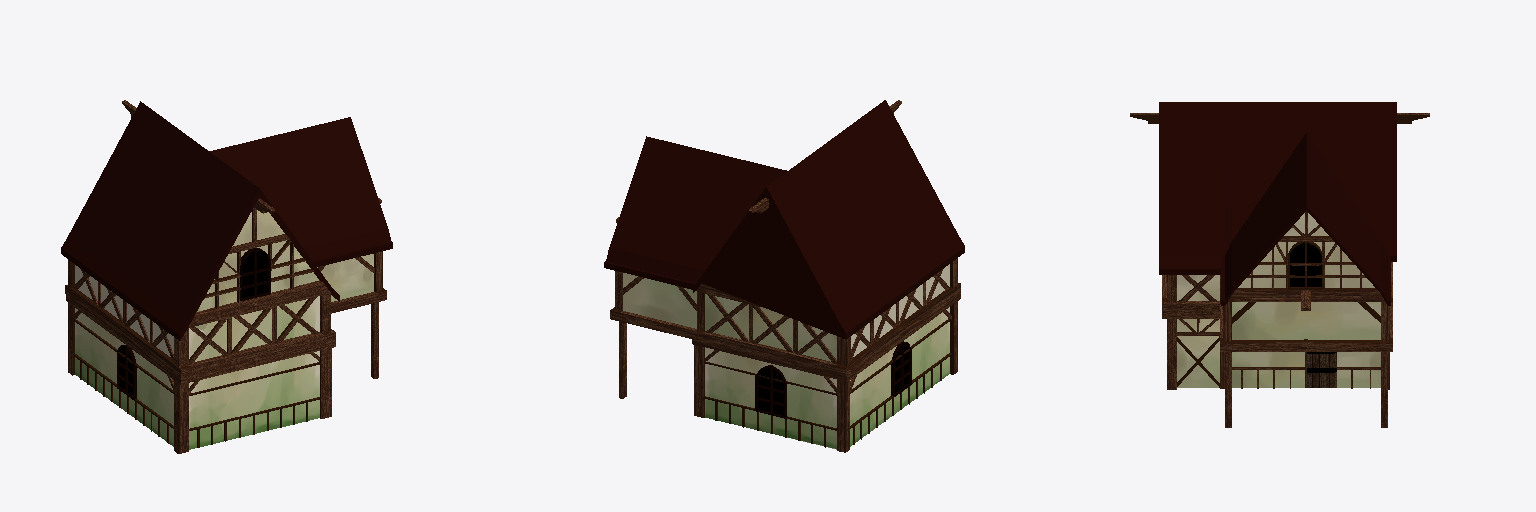
The picture shows the model from 3 angles: view 1: azimuth 30°, elevation 25°; view 2: azimuth 150°, elevation 25°; view 3: azimuth 270°, elevation 25°; orthographic projection.
Visible parts, largest first — view 1: Cube, Plane.005, Plane.001, Plane, Plane.007_Plane.008; view 2: Cube, Plane.005, Plane.006, Plane.007_Plane.008; view 3: Cube, Plane.002, Cube.001, Plane.005.
Boxes of the visible parts, x1=… form: Cube: x1=61, y1=100, x2=392, y2=453; Plane.005: x1=73, y1=319, x2=320, y2=447; Plane.001: x1=240, y1=248, x2=270, y2=300; Plane: x1=204, y1=240, x2=313, y2=308; Plane.007_Plane.008: x1=117, y1=345, x2=136, y2=399; Cube: x1=604, y1=100, x2=964, y2=452; Plane.005: x1=704, y1=319, x2=951, y2=447; Plane.006: x1=755, y1=365, x2=786, y2=418; Plane.007_Plane.008: x1=891, y1=341, x2=911, y2=396; Cube: x1=1130, y1=102, x2=1429, y2=427; Plane.002: x1=1247, y1=211, x2=1365, y2=289; Cube.001: x1=1305, y1=352, x2=1336, y2=387; Plane.005: x1=1232, y1=367, x2=1380, y2=388.
Size of the model in its own units: 9.25 by 8.15 by 8.82.
11 materials, 4 textured.